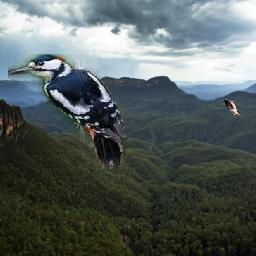Cuckoo: (224, 99, 241, 115)
Woodpecker: (9, 55, 128, 170)
